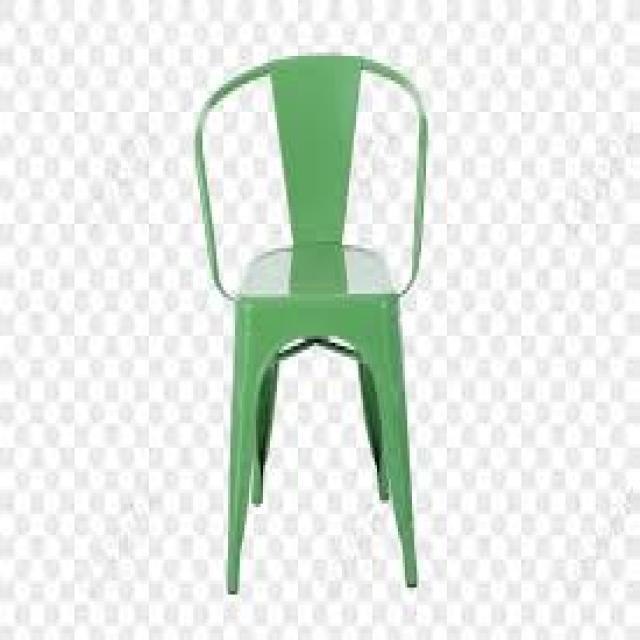chair: (155, 23, 492, 618)
